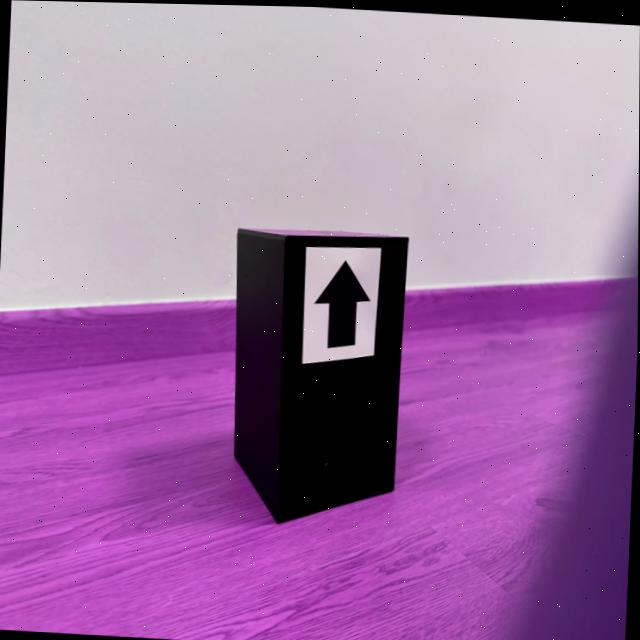UP: (315, 259, 369, 346)
